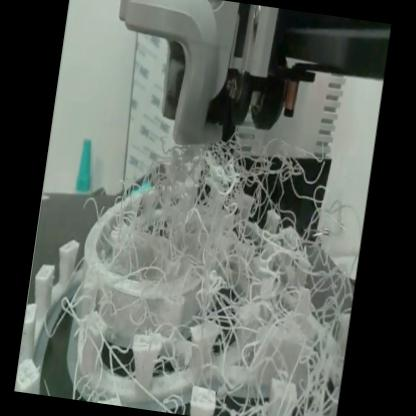fail: (61, 122, 372, 416)
